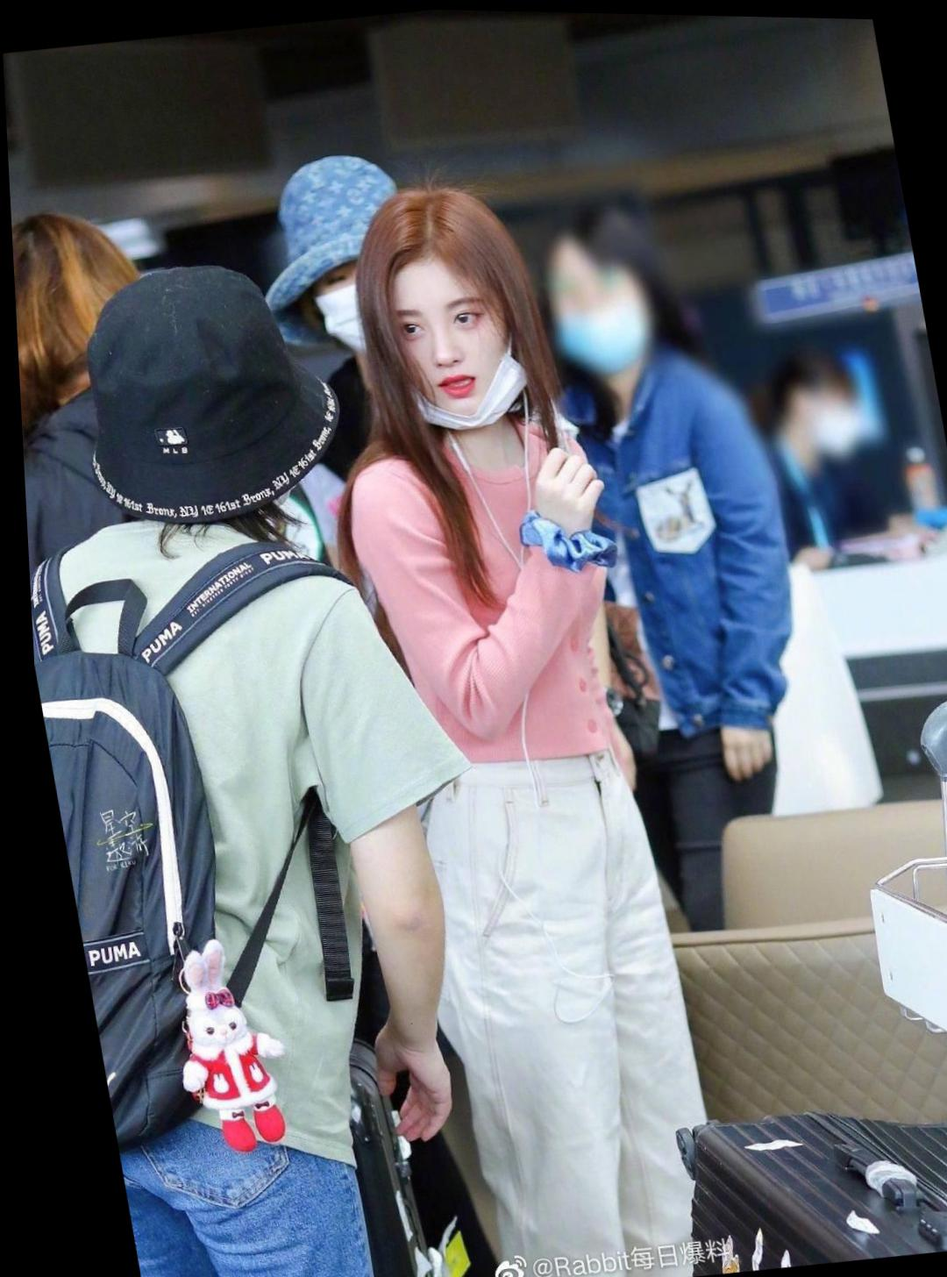OK: (301, 231, 415, 353), (539, 252, 643, 377), (794, 383, 858, 456)
WRONG: (382, 278, 520, 434)
